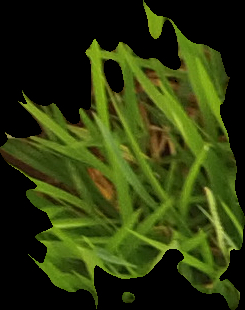grass: (1, 1, 243, 309)
